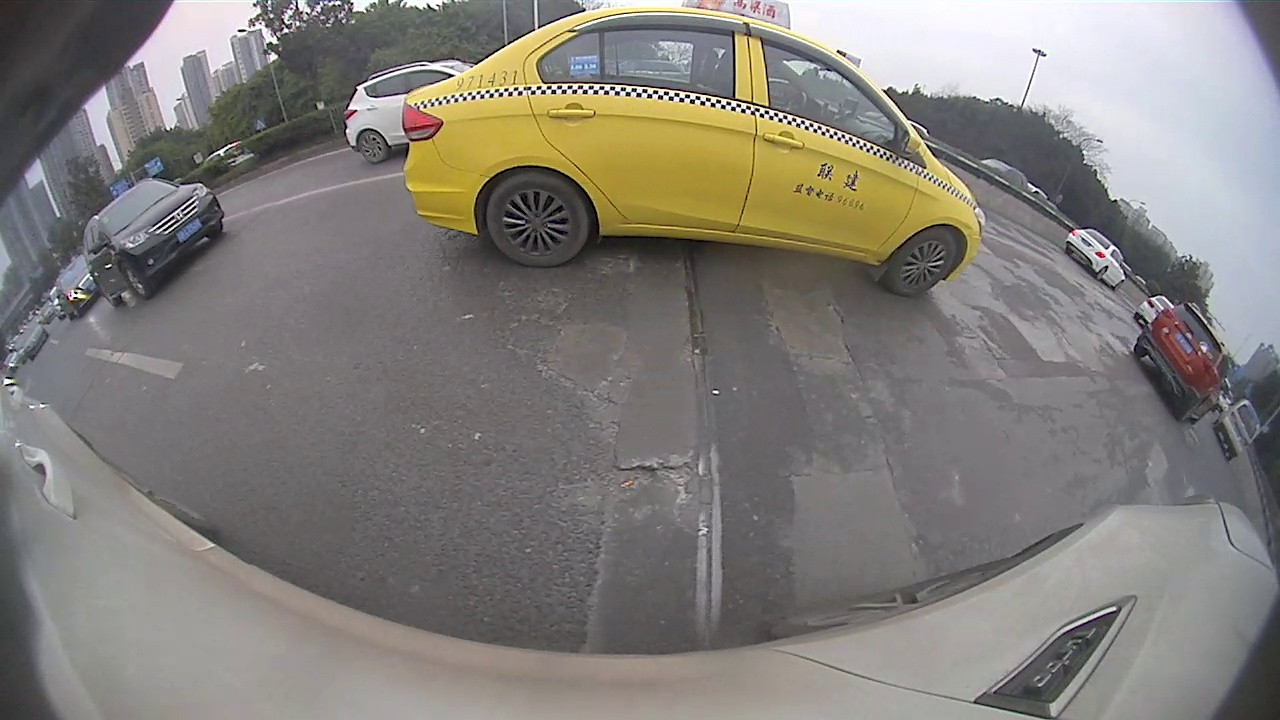car: (400, 2, 990, 298), (80, 176, 228, 309), (341, 59, 475, 167), (1134, 300, 1230, 427), (1065, 226, 1127, 290), (1212, 397, 1264, 462)
front: (881, 226, 959, 299), (122, 262, 152, 301)
rear: (485, 169, 592, 270), (356, 130, 391, 164), (1093, 267, 1110, 282)
